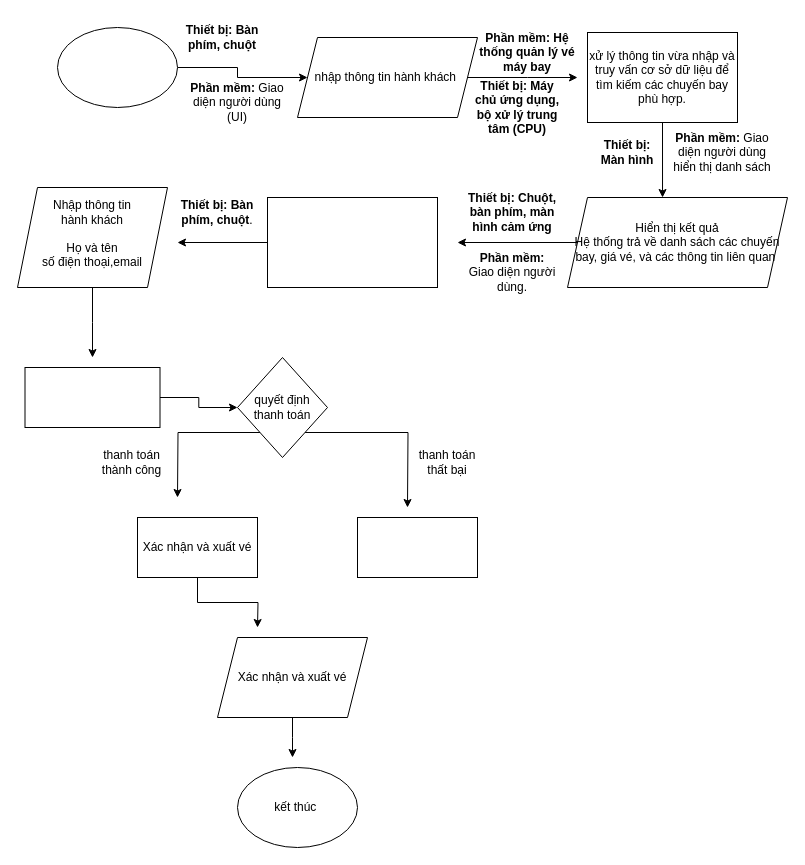
Some shapes in this 805 by 865 pixel diagram are drawn without their labels. The centre of each missing label's shape, as x and y in pixels:
"bắt đầu" goes at (117,67).
"Chọn phương thức thanh toán" goes at (92,397).
"Lựa chọn chuyến bay" goes at (352,242).
"Xử lý giao dịch lỗi" goes at (417,547).
